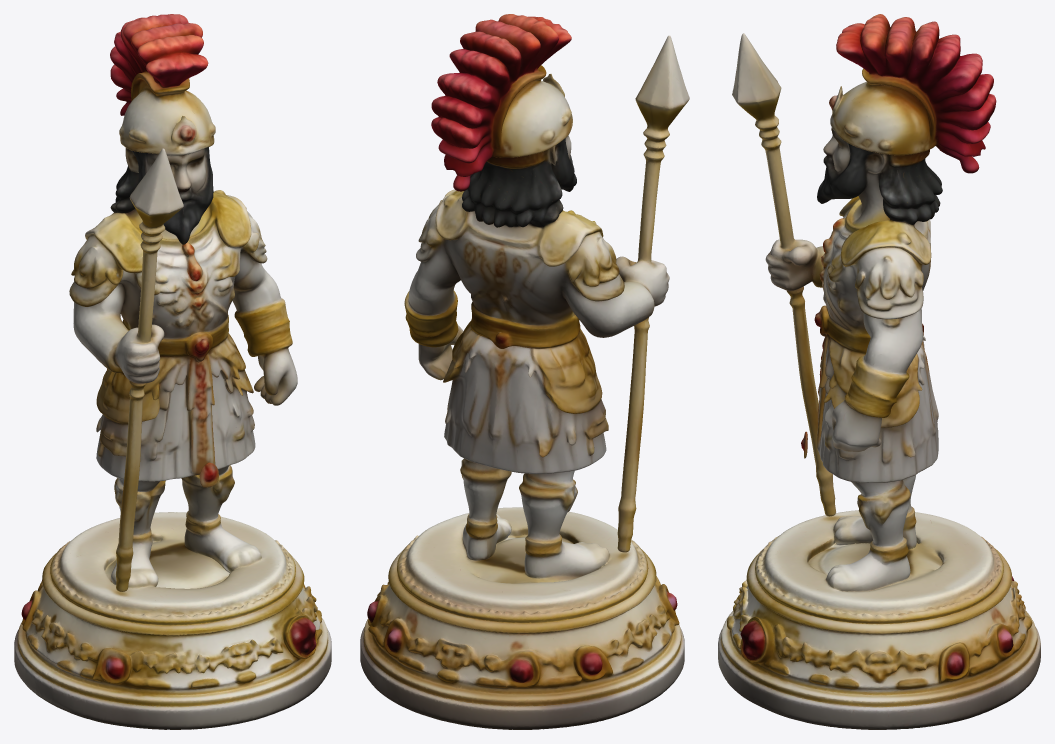
Rendered from sample_2026-11-06T104217.179.glb.
3 views of the same model, side by side, from view 1: azimuth 30°, elevation 25°; view 2: azimuth 150°, elevation 25°; view 3: azimuth 270°, elevation 25° (orthographic). The views are drawn at different scales.
Visible parts, largest first — view 1: world; view 2: world; view 3: world.
Part boxes in pixels (left/top/right/bottom): world: left=14, top=14, right=331, bottom=729; world: left=360, top=14, right=689, bottom=729; world: left=718, top=14, right=1040, bottom=729.
Bounding box in the file's own units: 0.4565 × 1 × 0.4569.
1 material, 1 textured.
